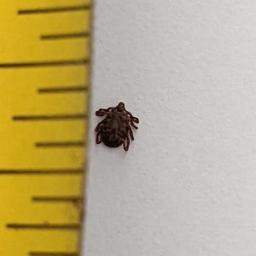Rhipicephalus sanguineus: (95, 101, 139, 152)
